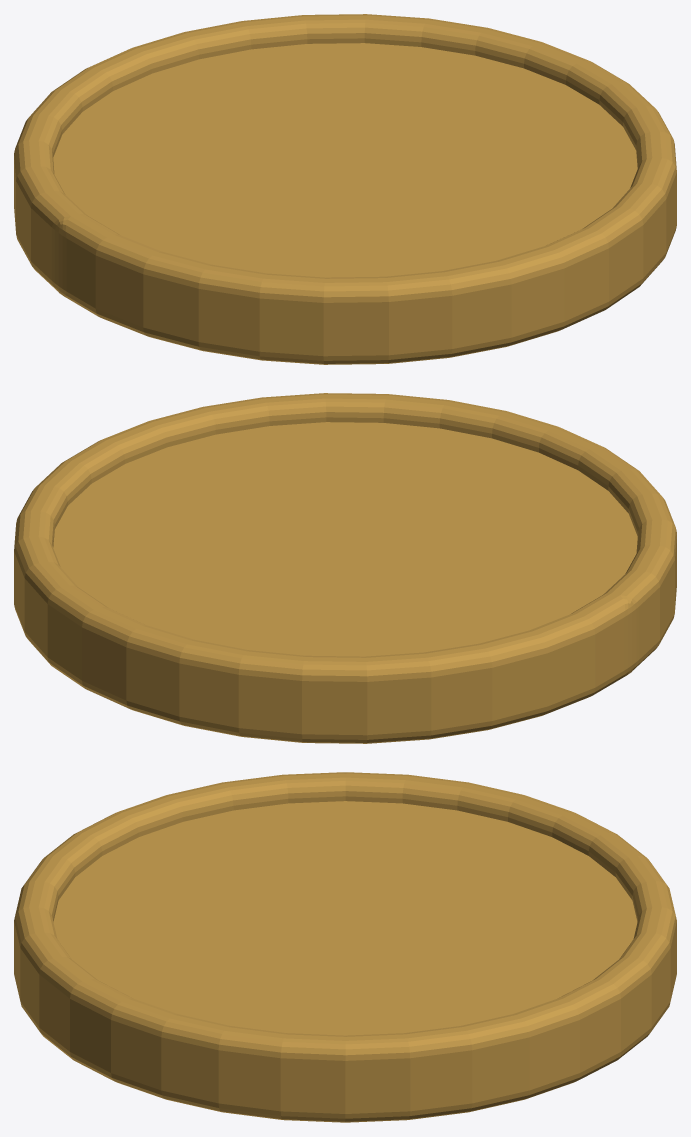
The model's file is piece.fbx.
The picture shows the model from 3 angles, top to bottom: view 1: azimuth 30°, elevation 25°; view 2: azimuth 150°, elevation 25°; view 3: azimuth 270°, elevation 25°; orthographic projection.
Visible parts, largest first — view 1: Cylindre; view 2: Cylindre; view 3: Cylindre.
Part boxes in pixels (bbox=[...]): Cylindre: bbox=[14, 14, 676, 364]; Cylindre: bbox=[14, 393, 676, 743]; Cylindre: bbox=[14, 772, 676, 1122].
Bounding box in the file's own units: 200 × 26.74 × 200.
